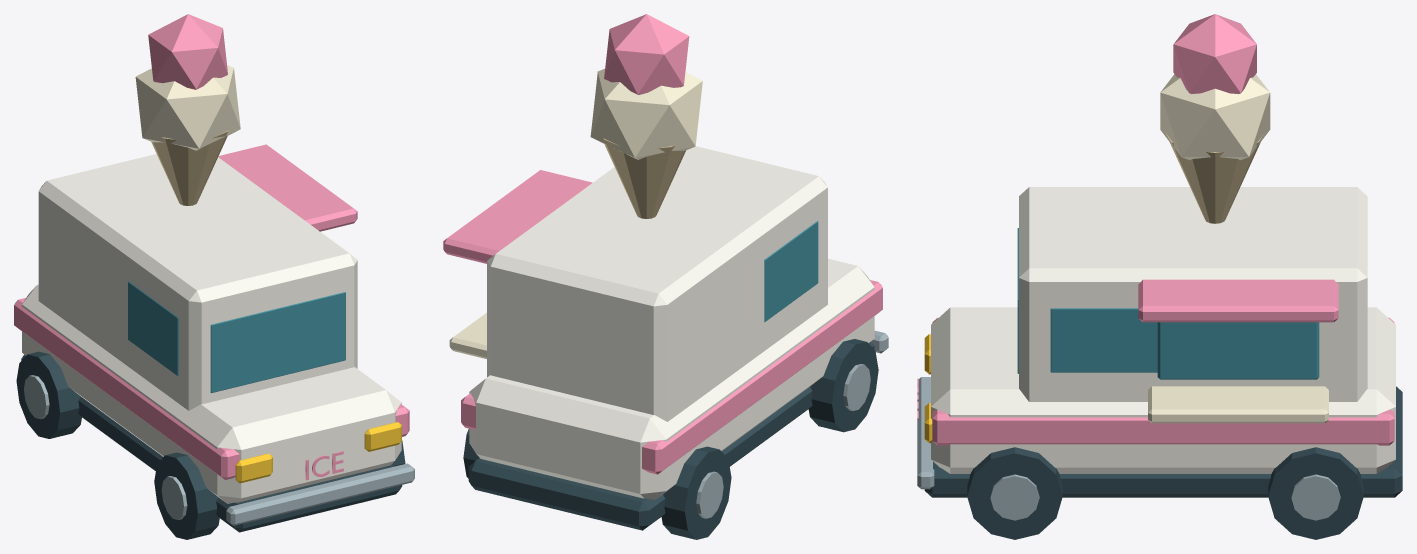
Rendered from icecream.glb.
3 renders of one model, left to right at view 1: azimuth 30°, elevation 25°; view 2: azimuth 150°, elevation 25°; view 3: azimuth 270°, elevation 25°, orthographic. The views are drawn at different scales.
Visible parts, largest first — view 1: Vehicle; view 2: Vehicle; view 3: Vehicle.
Boxes of the visible parts, x1,y1,x2,y2 form: Vehicle: [14, 14, 414, 539]; Vehicle: [443, 14, 888, 539]; Vehicle: [917, 14, 1402, 539].
Bounding box in the file's own units: 2.37 × 4.02 × 3.75.
